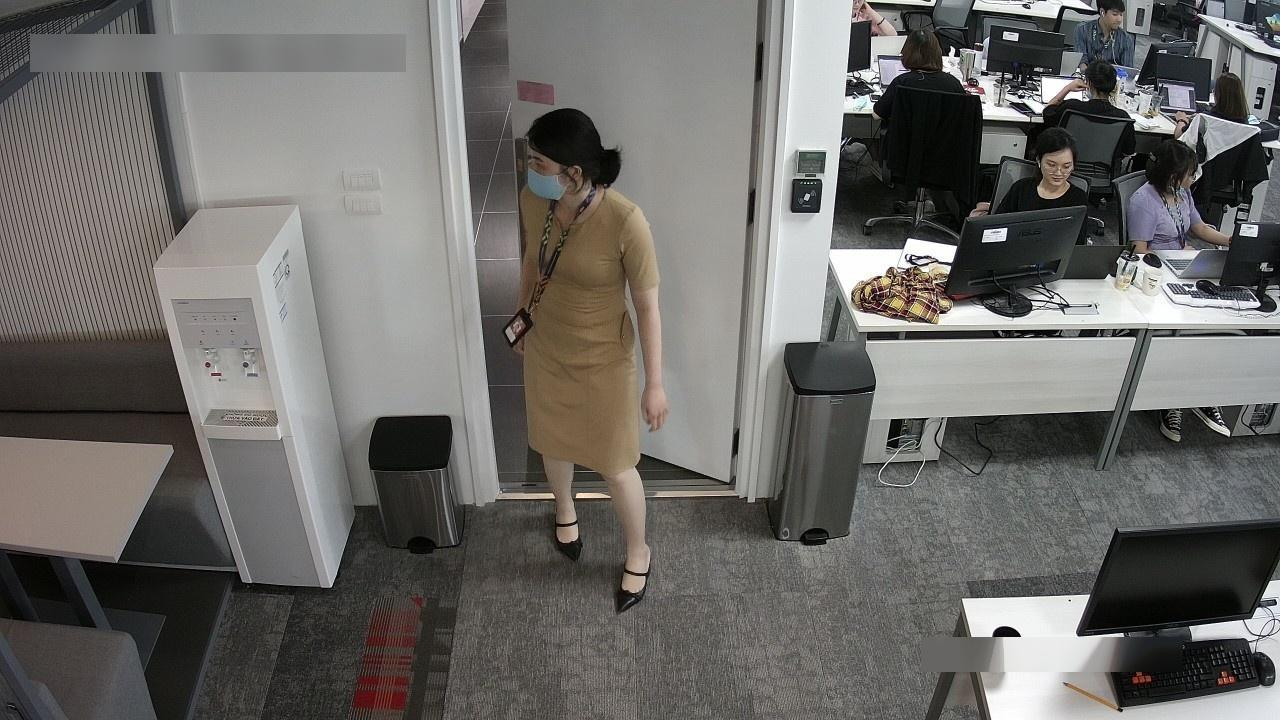mask: (522, 139, 582, 202)
no_apron: (628, 373, 684, 439), (1053, 73, 1096, 101), (1164, 105, 1194, 132)
no_gloves: (517, 106, 649, 196), (1139, 127, 1208, 196), (1198, 59, 1258, 137), (1071, 49, 1132, 114), (888, 37, 962, 81), (1035, 116, 1092, 162), (1090, 0, 1138, 27)
no_hairnet: (1041, 149, 1075, 186)
